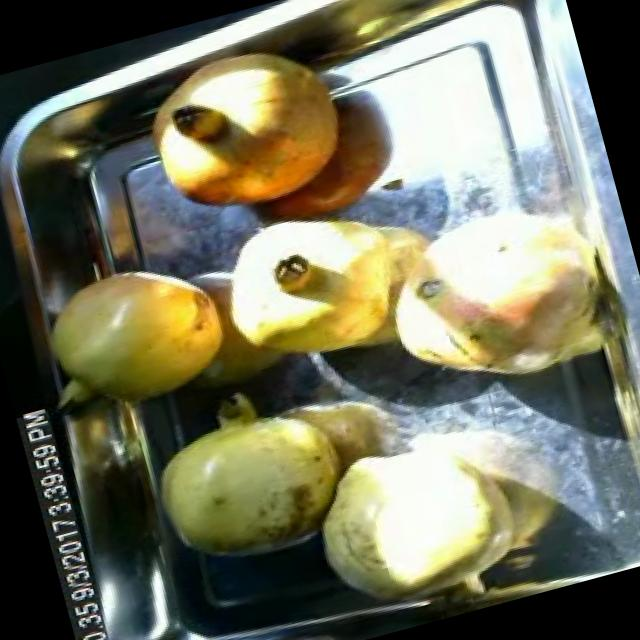fruit: (355, 176, 634, 416), (290, 406, 554, 636), (129, 360, 369, 582), (127, 25, 368, 236), (27, 241, 248, 428), (205, 190, 415, 386)
